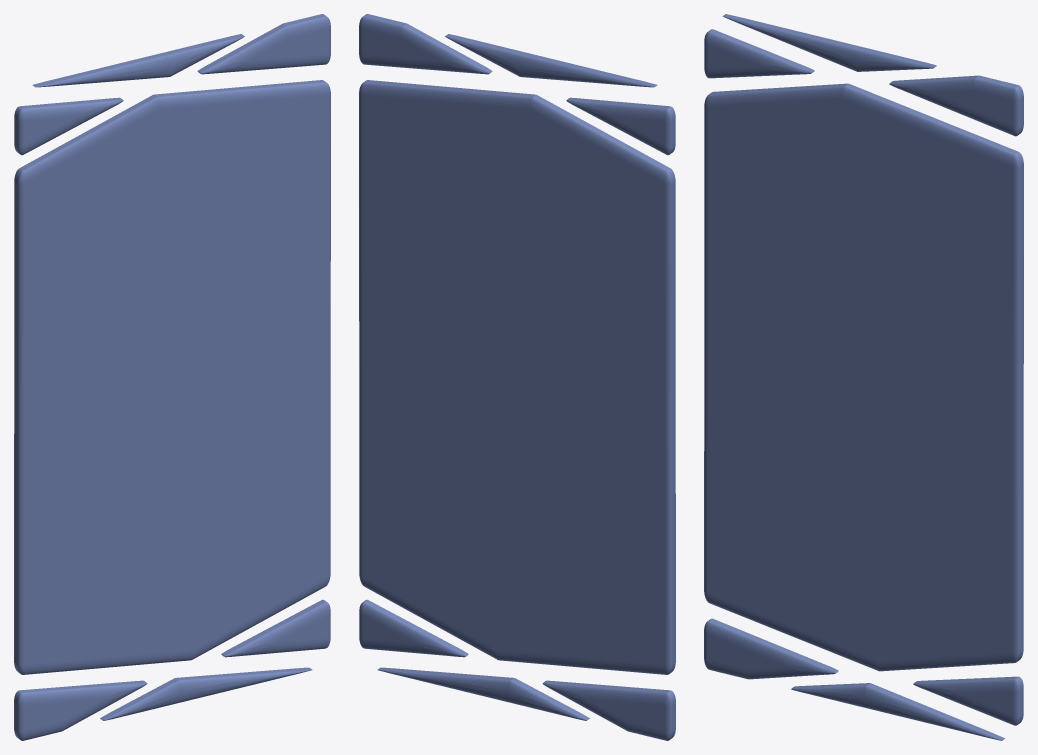
File: Menu_BG_01.fbx
The picture shows the model from 3 angles, left to right: view 1: azimuth 30°, elevation 25°; view 2: azimuth 150°, elevation 25°; view 3: azimuth 330°, elevation 25°; orthographic projection.
Parts seen in each view (by area): view 1: Menu_BG_01; view 2: Menu_BG_01; view 3: Menu_BG_01.
Part boxes in pixels (x1=…): Menu_BG_01: x1=14, y1=14, x2=330, y2=740; Menu_BG_01: x1=359, y1=14, x2=675, y2=740; Menu_BG_01: x1=704, y1=14, x2=1023, y2=740.
Bounding box in the file's own units: 300 × 596 × 12.03.
